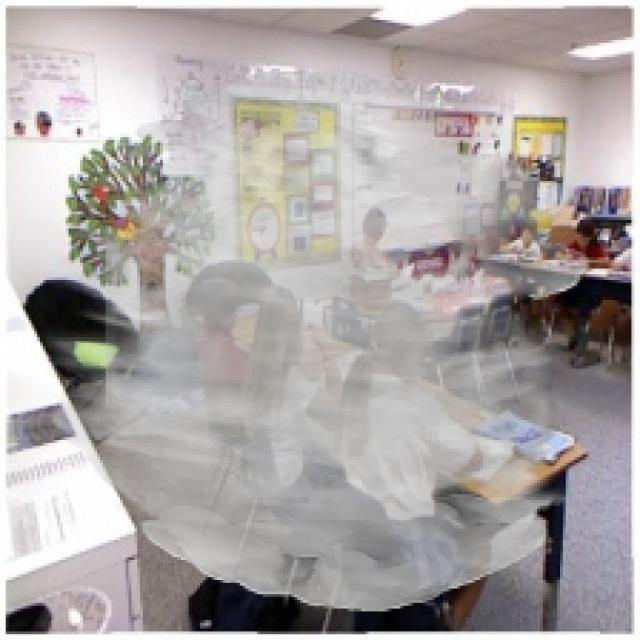Smoke: (39, 69, 592, 612)
